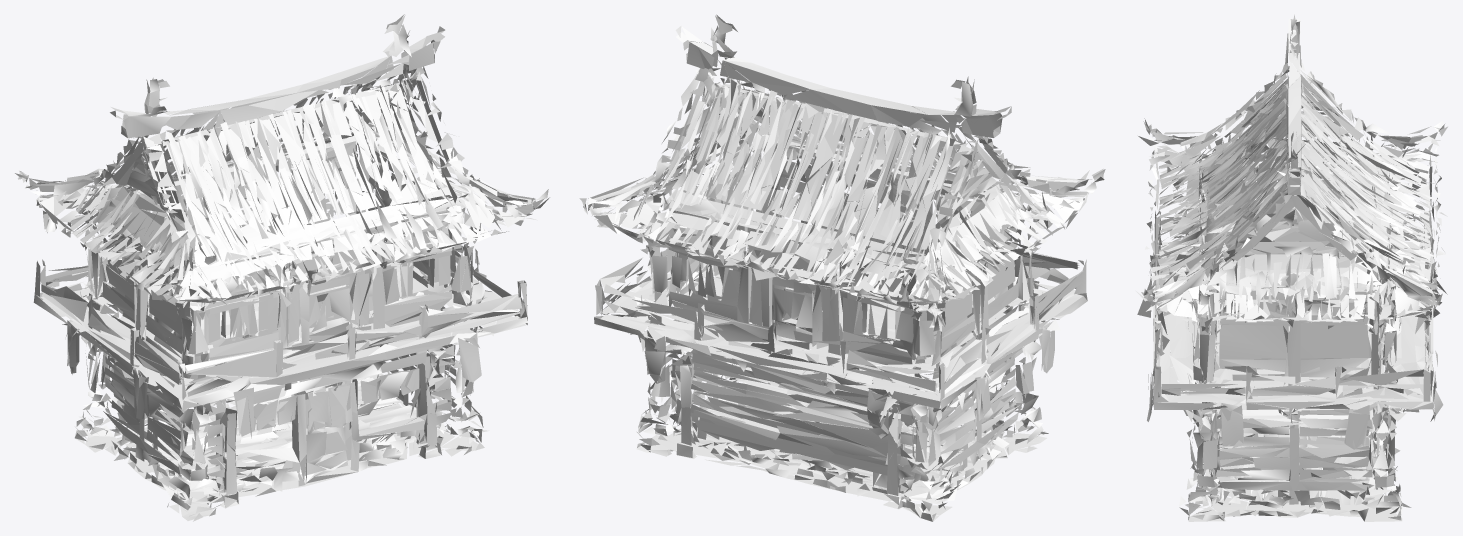
File: house_bal_a_lod2.glb
The picture shows the model from 3 angles, left to right: view 1: azimuth 30°, elevation 25°; view 2: azimuth 150°, elevation 25°; view 3: azimuth 270°, elevation 25°; orthographic projection. The views are drawn at different scales.
Parts seen in each view (by area): view 1: house_bal_a; view 2: house_bal_a; view 3: house_bal_a.
Boxes of the visible parts, left/top/right/bottom form: house_bal_a: left=15, top=14, right=549, bottom=521; house_bal_a: left=579, top=14, right=1105, bottom=521; house_bal_a: left=1135, top=14, right=1447, bottom=521.
Bounding box in the file's own units: 8.4 × 8.6 × 6.39.
1 material, 1 textured.
